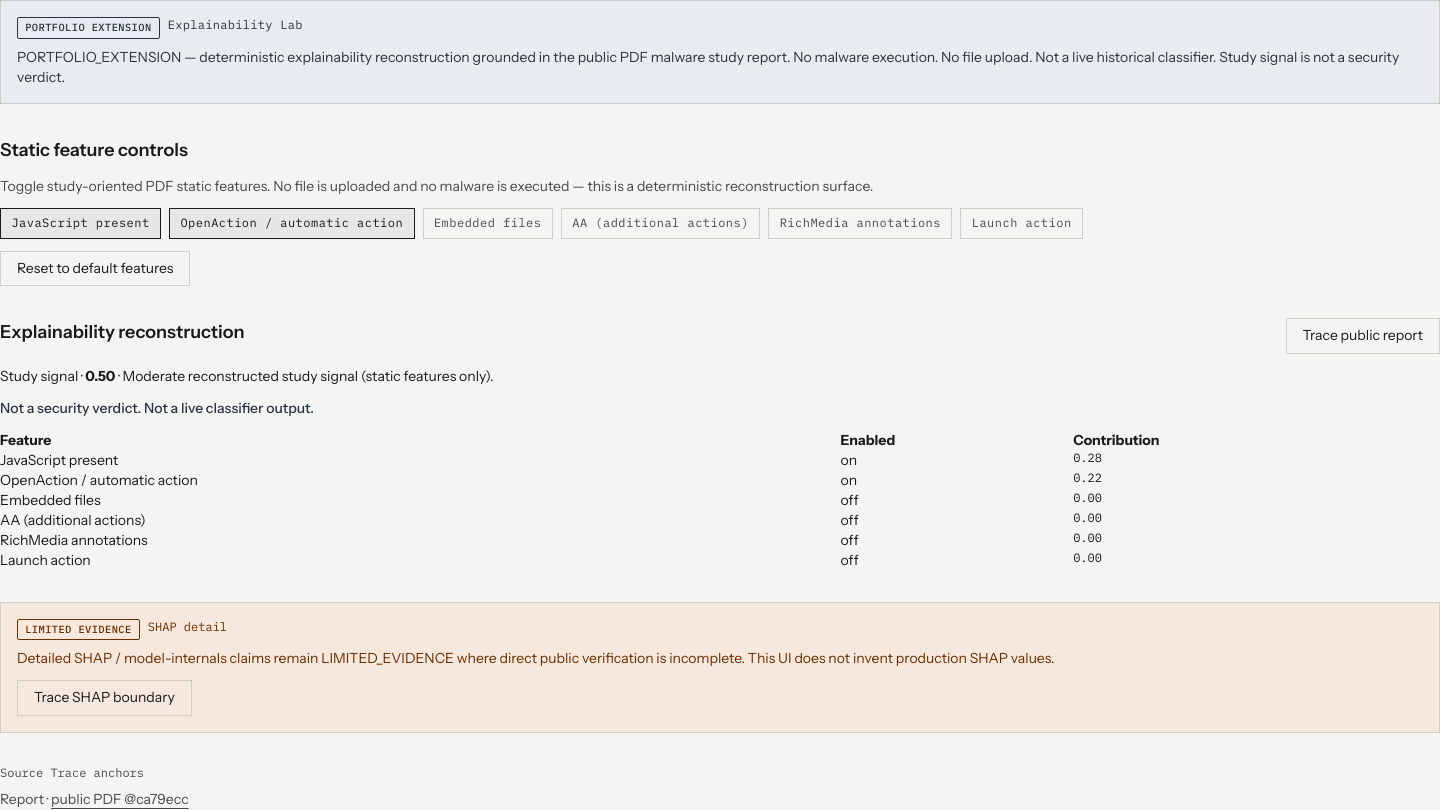
Scenario: MalwareLab (M13) › opens Source Trace for the SHAP boundary
The image size is (1440, 810).
Click the button "Trace SHAP boundary" at (104, 698), box [17,680,192,716]
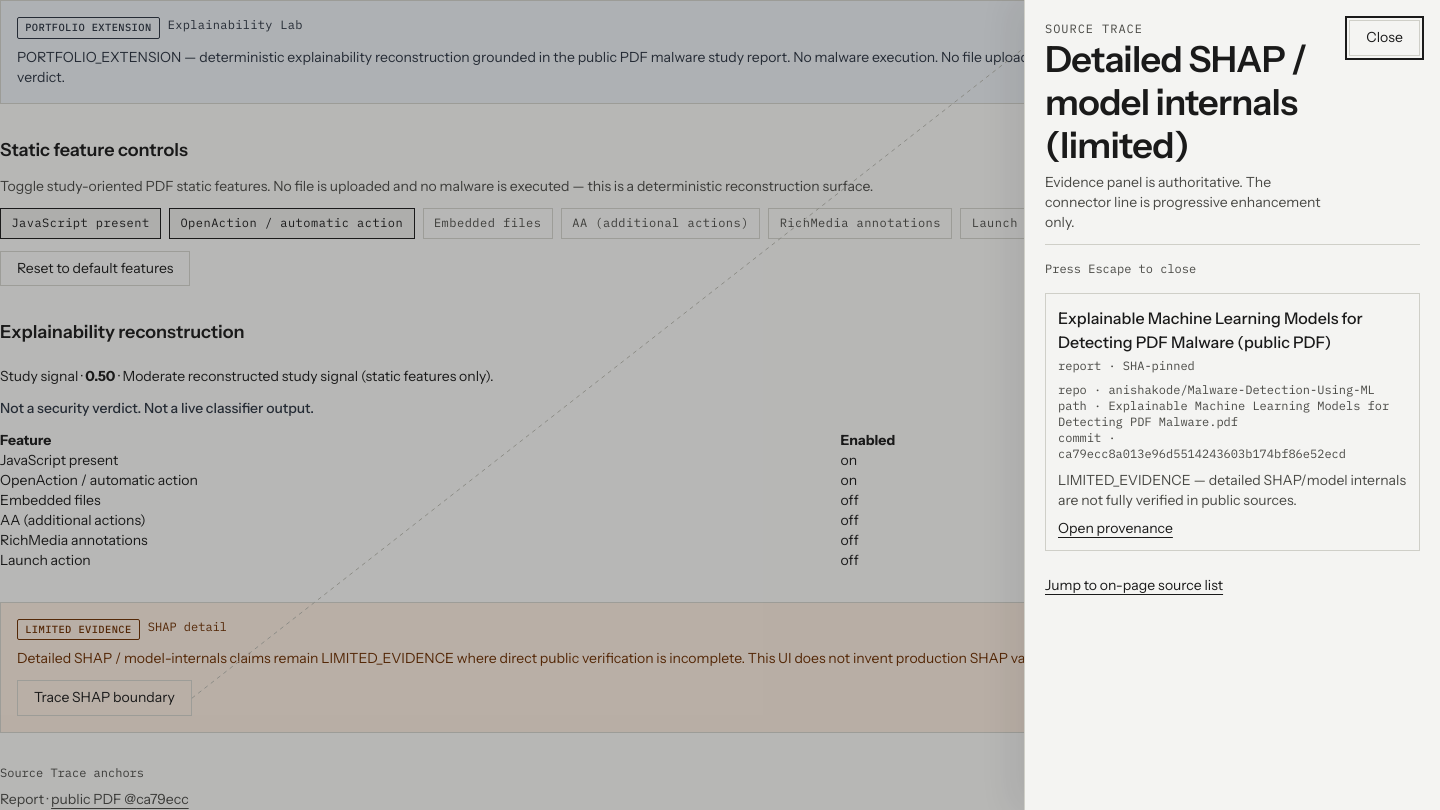
Expected: the dialog is shown, [1024,0,1439,809]
Expected: the heading "Detailed SHAP / model internals (limited)" is shown, [1045,38,1337,168]
Expected: the text "LIMITED_EVIDENCE — detailed SHAP/model internals are not fully verified" is shown, [1058,471,1406,509]
